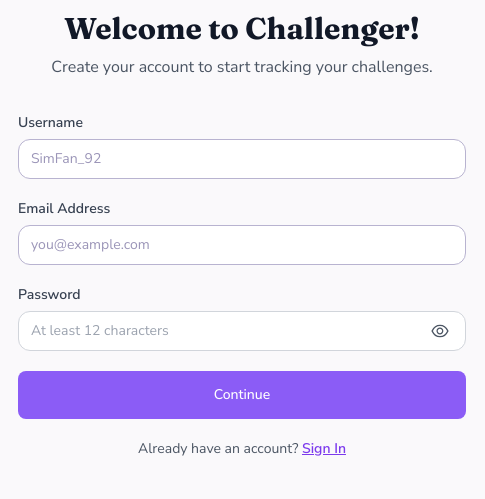
Test: AccountStep Component › Username Field Validation › shows error for reserved username
In the field labelled "Username": (242,159) left=18, top=139, right=466, bottom=179, type "admin"
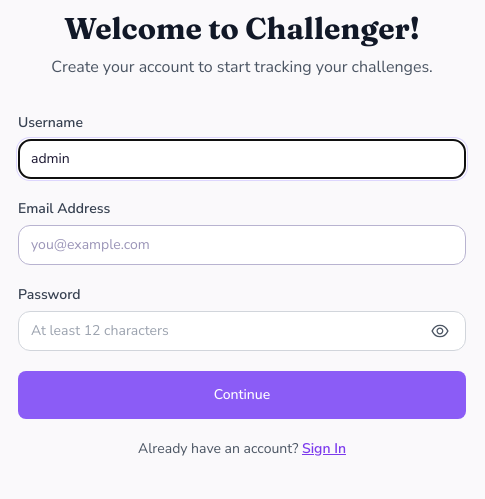
Press Tab
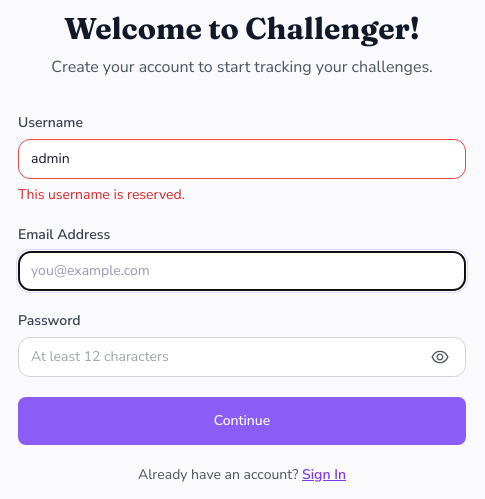
Expected: the text "This username is reserved." is shown, left=18, top=185, right=185, bottom=204
